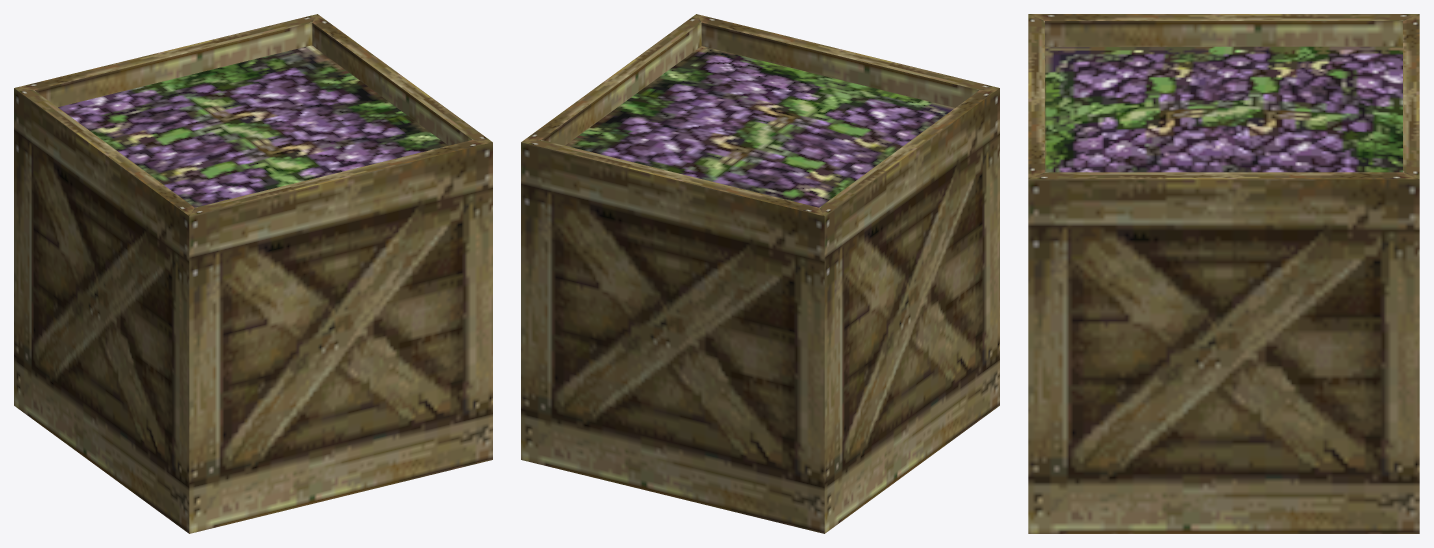
File: nml-bd002.glb
3 renders of one model, left to right at view 1: azimuth 30°, elevation 25°; view 2: azimuth 150°, elevation 25°; view 3: azimuth 270°, elevation 25°, orthographic. The views are drawn at different scales.
Parts seen in each view (by area): view 1: geom_node_0; view 2: geom_node_0; view 3: geom_node_0.
Part boxes in pixels (x1,y1,x2,y2): geom_node_0: (14, 14, 492, 533); geom_node_0: (521, 14, 999, 533); geom_node_0: (1028, 14, 1419, 533).
Size of the model in its own units: 1.2 by 1.2 by 1.2.
Materials: 1 (1 with a texture image).
